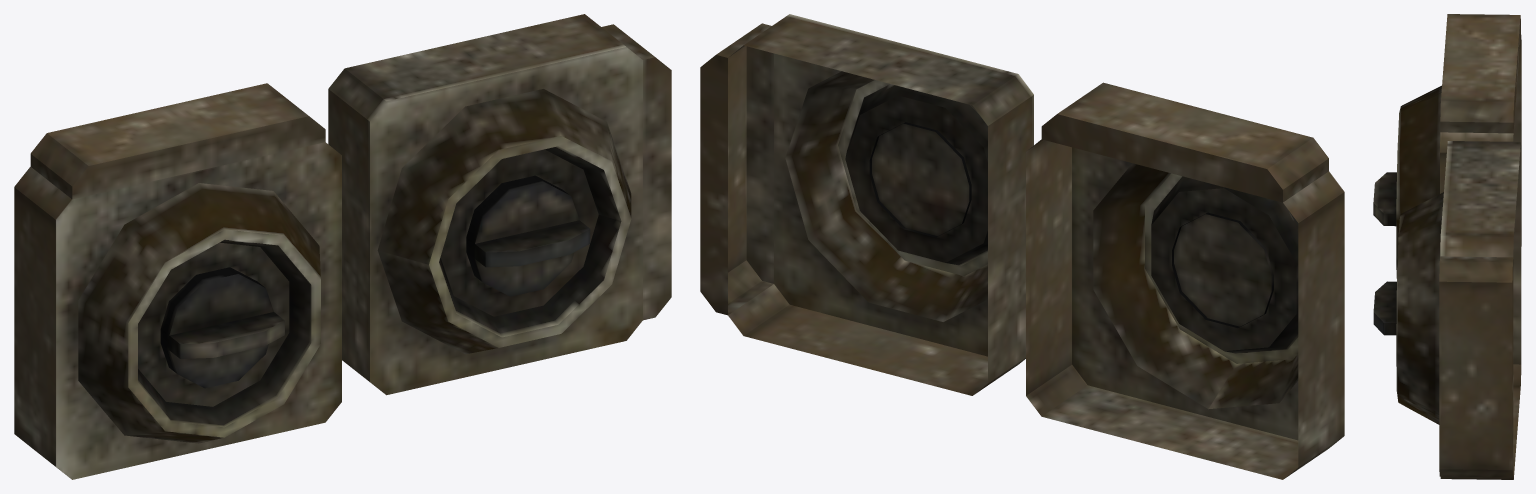
Rendered from DoorSmallMeters.FBX.
The picture shows the model from 3 angles, left to right: view 1: azimuth 30°, elevation 25°; view 2: azimuth 150°, elevation 25°; view 3: azimuth 270°, elevation 25°; orthographic projection. The views are drawn at different scales.
Visible parts, largest first — view 1: Meter_01, Meter_02; view 2: Meter_01, Meter_02; view 3: Meter_02, Meter_01.
Part boxes in pixels (box(x1,y1,x2,y2)): Meter_01: box(14, 83, 341, 479); Meter_02: box(328, 14, 671, 395); Meter_01: box(1026, 82, 1344, 479); Meter_02: box(700, 14, 1033, 395); Meter_02: box(1373, 141, 1521, 479); Meter_01: box(1373, 14, 1521, 278).
Bounding box in the file's own units: 38.2 × 18.48 × 9.67.
